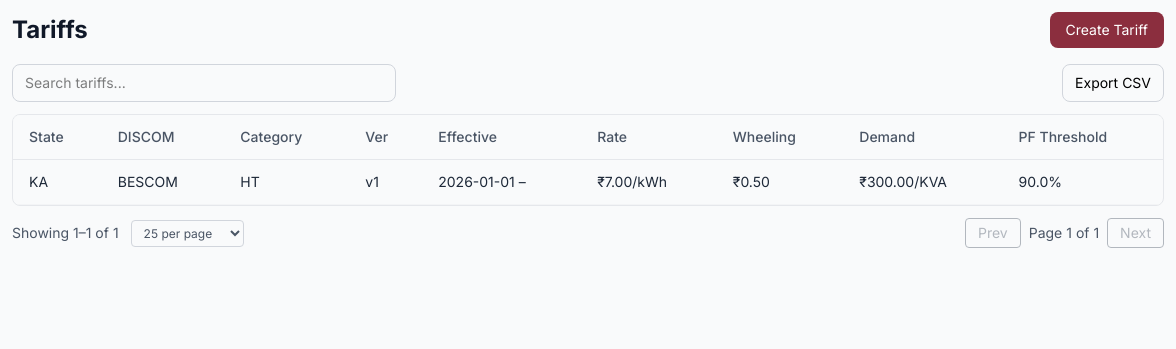
it: Tariffs page › renders Edit Tariff button in expanded row when admin
# Click the tariff row to expand it
Click the text "BESCOM" at {"x": 163, "y": 182}, box [102,160,224,204]
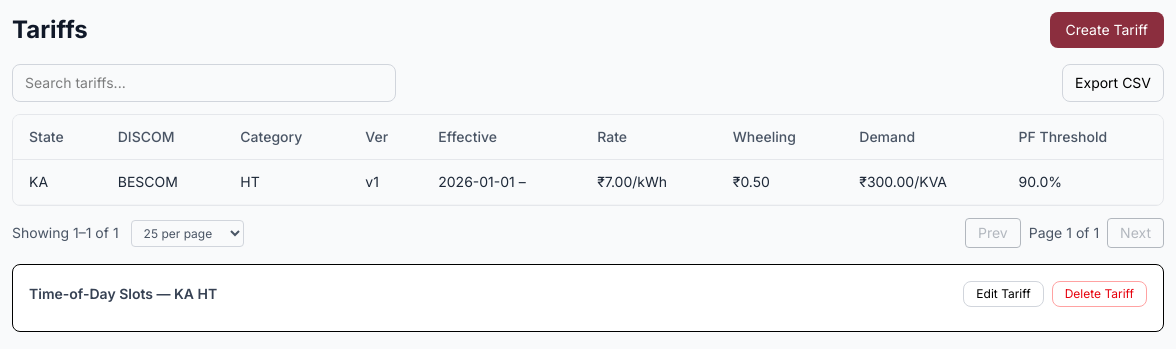
Check: the button "Edit Tariff" is shown, box [963,281,1044,307]
